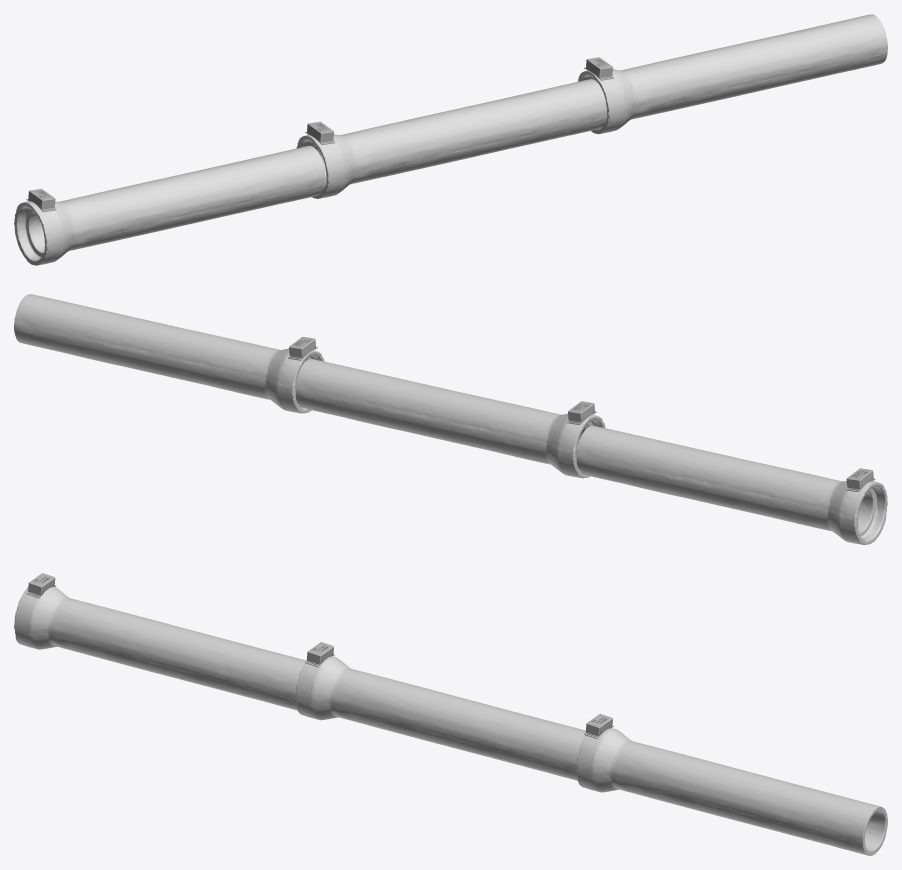
3 renders of one model, top to bottom at view 1: azimuth 30°, elevation 25°; view 2: azimuth 150°, elevation 25°; view 3: azimuth 330°, elevation 25°, orthographic.
Visible parts, largest first — view 1: Aset_industrial_hardware_L_vilidaw_00_LOD0 (×3); view 2: Aset_industrial_hardware_L_vilidaw_00_LOD0 (×3); view 3: Aset_industrial_hardware_L_vilidaw_00_LOD0 (×3).
Boxes of the visible parts, x1=… form: Aset_industrial_hardware_L_vilidaw_00_LOD0 (×3): x1=14, y1=14, x2=887, y2=265; Aset_industrial_hardware_L_vilidaw_00_LOD0 (×3): x1=14, y1=294, x2=887, y2=544; Aset_industrial_hardware_L_vilidaw_00_LOD0 (×3): x1=14, y1=587, x2=887, y2=855.
Size of the model in its own units: 13.26 by 1.09 by 0.889.
Materials: 5 (1 with a texture image).
